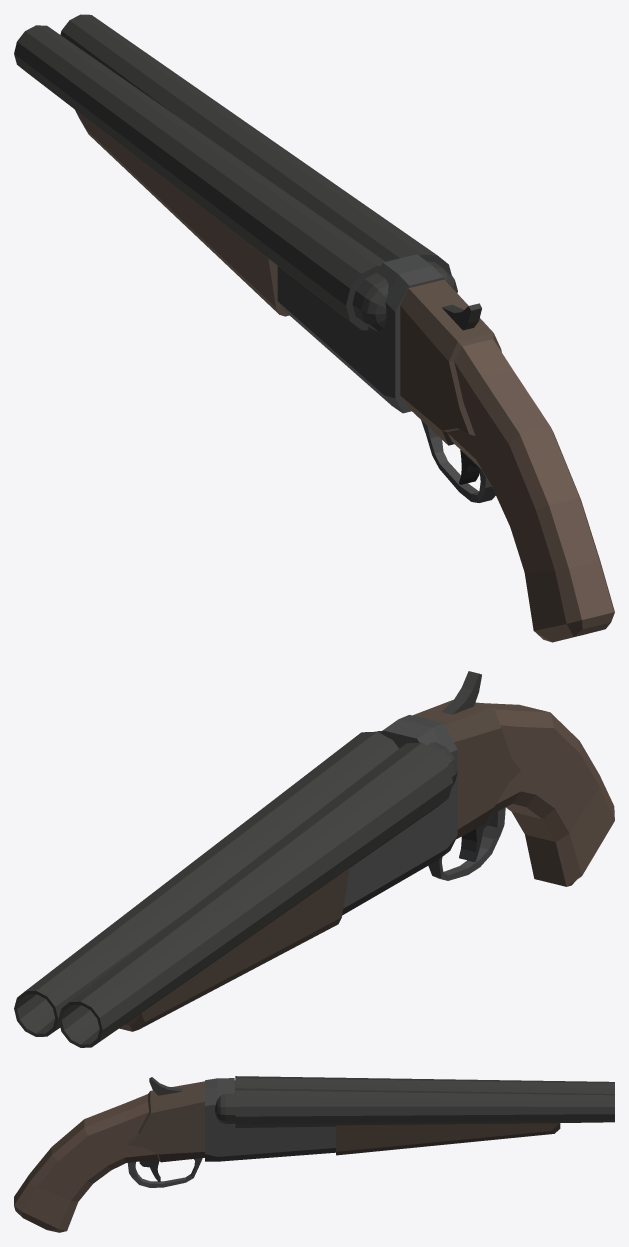
File: shotgun_1.glb
3 renders of one model, top to bottom at view 1: azimuth 30°, elevation 25°; view 2: azimuth 150°, elevation 25°; view 3: azimuth 270°, elevation 25°, orthographic. The views are drawn at different scales.
Visible parts, largest first — view 1: Shotgun_1; view 2: Shotgun_1; view 3: Shotgun_1.
Part boxes in pixels (x1,y1,x2,y2): Shotgun_1: (14, 14, 614, 642); Shotgun_1: (14, 671, 614, 1047); Shotgun_1: (14, 1076, 614, 1232).
Bounding box in the file's own units: 0.0683 × 0.1649 × 0.5962.
